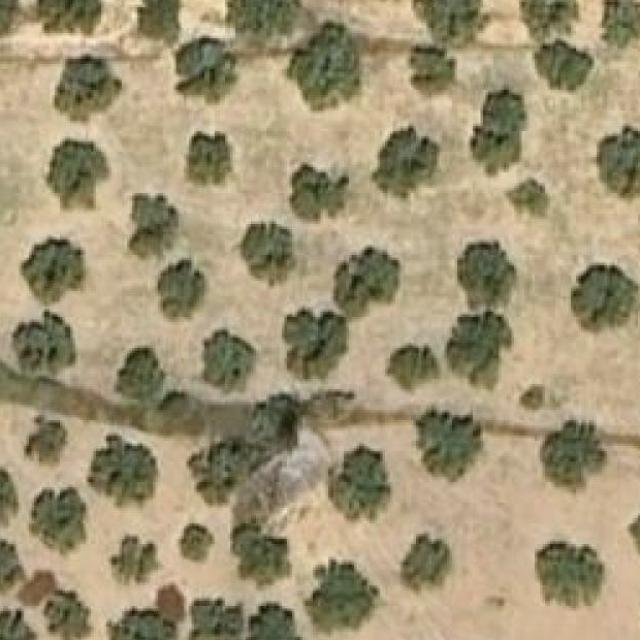Tree: (296, 18, 362, 103), (369, 124, 442, 199), (304, 562, 377, 635), (327, 248, 406, 315), (88, 436, 158, 511), (327, 444, 392, 521), (446, 310, 511, 385), (283, 310, 349, 383), (29, 485, 91, 561), (172, 35, 238, 105), (470, 90, 524, 175), (571, 266, 638, 332), (46, 136, 112, 202), (230, 222, 297, 287), (55, 57, 122, 122), (191, 328, 256, 394), (189, 438, 256, 502), (415, 410, 480, 475), (18, 240, 82, 304), (540, 424, 600, 491), (14, 312, 76, 374), (457, 242, 514, 308), (537, 542, 602, 597), (234, 0, 302, 51), (129, 193, 179, 258), (289, 165, 346, 222), (234, 526, 289, 584), (597, 125, 640, 198), (426, 0, 483, 49), (41, 587, 93, 640), (117, 346, 166, 402), (108, 534, 163, 583), (403, 537, 452, 591), (158, 260, 204, 317), (534, 41, 588, 88), (387, 343, 442, 389), (106, 606, 179, 640), (246, 601, 306, 640), (186, 131, 230, 183), (39, 0, 101, 36), (138, 0, 184, 46), (191, 601, 243, 640), (602, 0, 640, 52), (411, 48, 452, 93), (527, 0, 581, 33), (506, 180, 550, 218), (0, 537, 24, 602), (31, 422, 67, 462), (180, 524, 212, 562), (0, 611, 37, 640), (0, 466, 17, 526), (1, 0, 22, 40), (628, 505, 640, 562), (521, 387, 542, 411)
